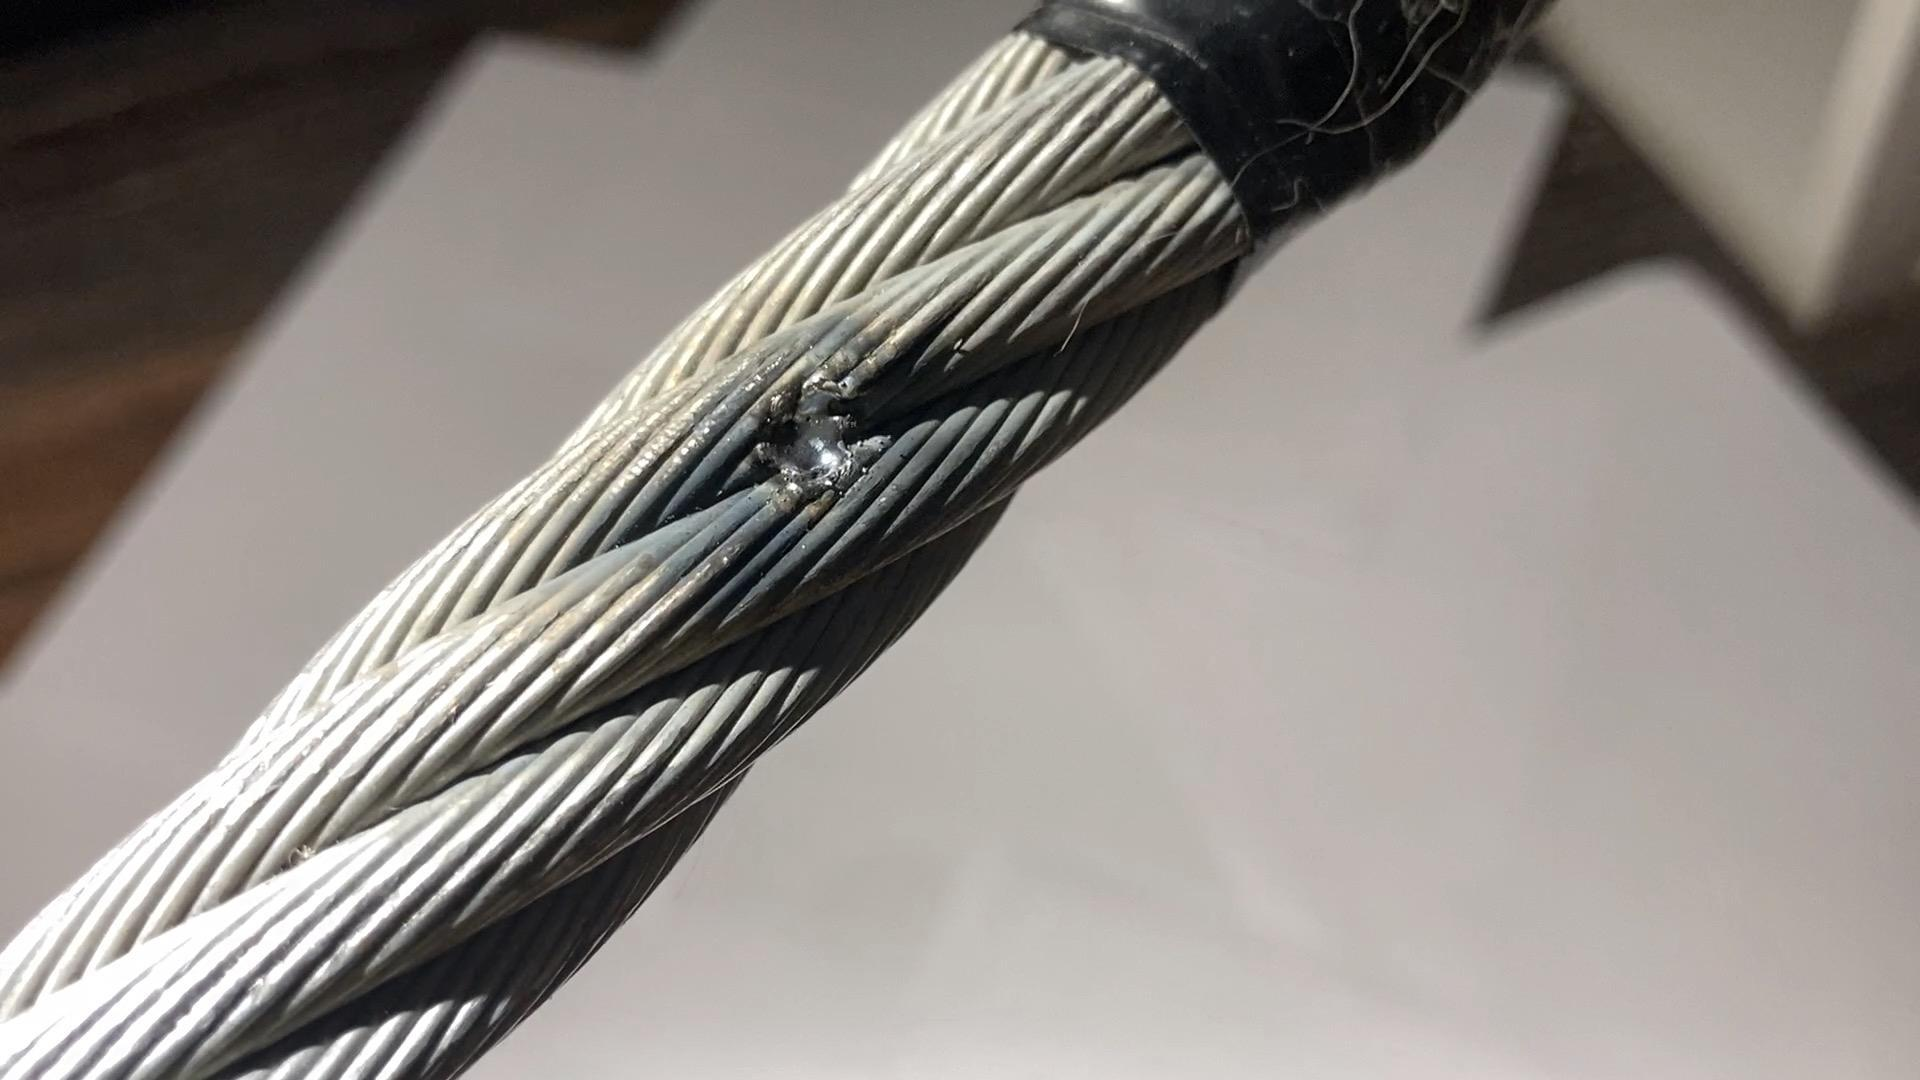thunderbolt: (731, 327, 907, 487)
